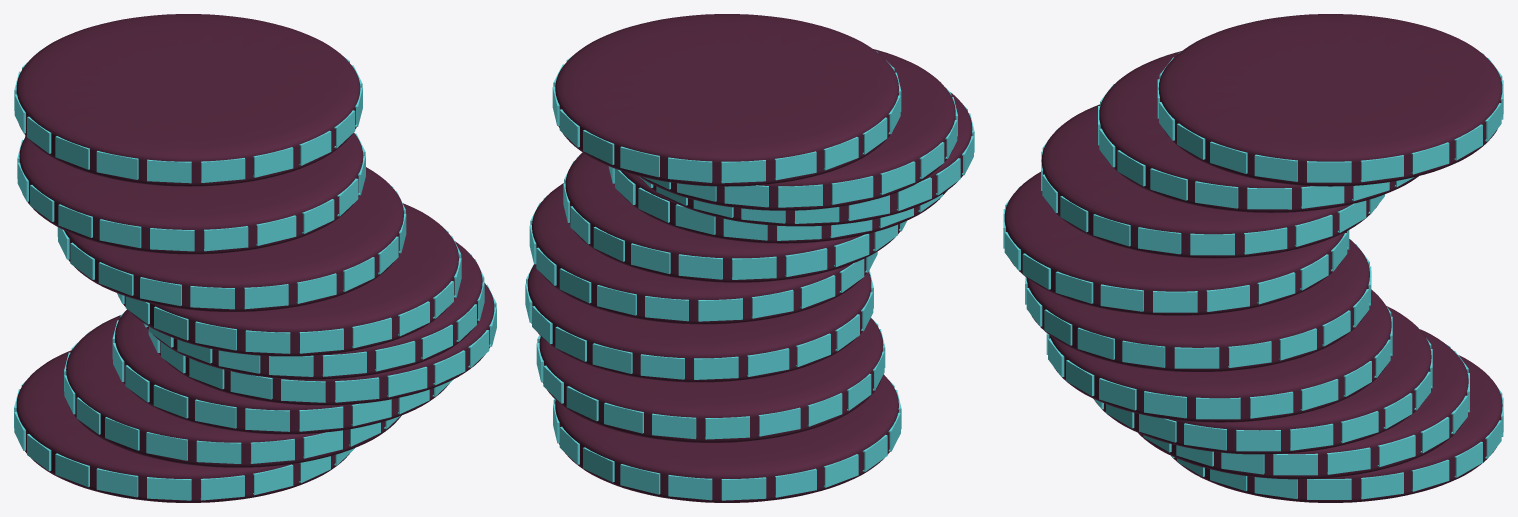
Rendered from gebaeude_alienhotel_Mat.fbx.
3 renders of one model, left to right at view 1: azimuth 30°, elevation 25°; view 2: azimuth 150°, elevation 25°; view 3: azimuth 270°, elevation 25°, orthographic.
Parts seen in each view (by area): view 1: 9; view 2: 9; view 3: 9.
Part boxes in pixels (<box>): 9: <box>14,14,496,502</box>; 9: <box>525,14,974,502</box>; 9: <box>1003,14,1503,502</box>.
Bounding box in the file's own units: 795 × 667 × 850.
